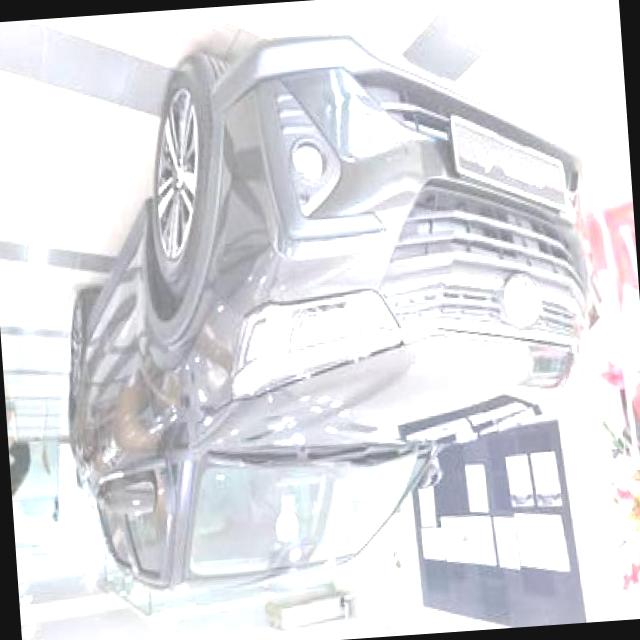PeroduaAtiva: (41, 19, 613, 608)
